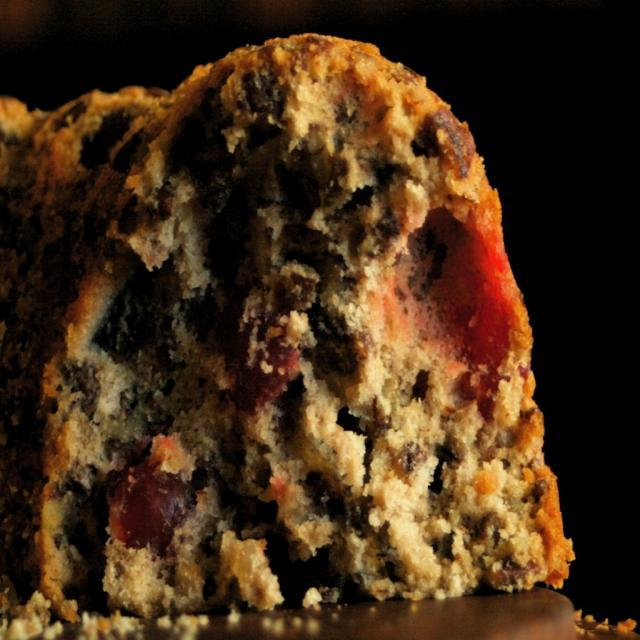Bread: (0, 39, 575, 639)
